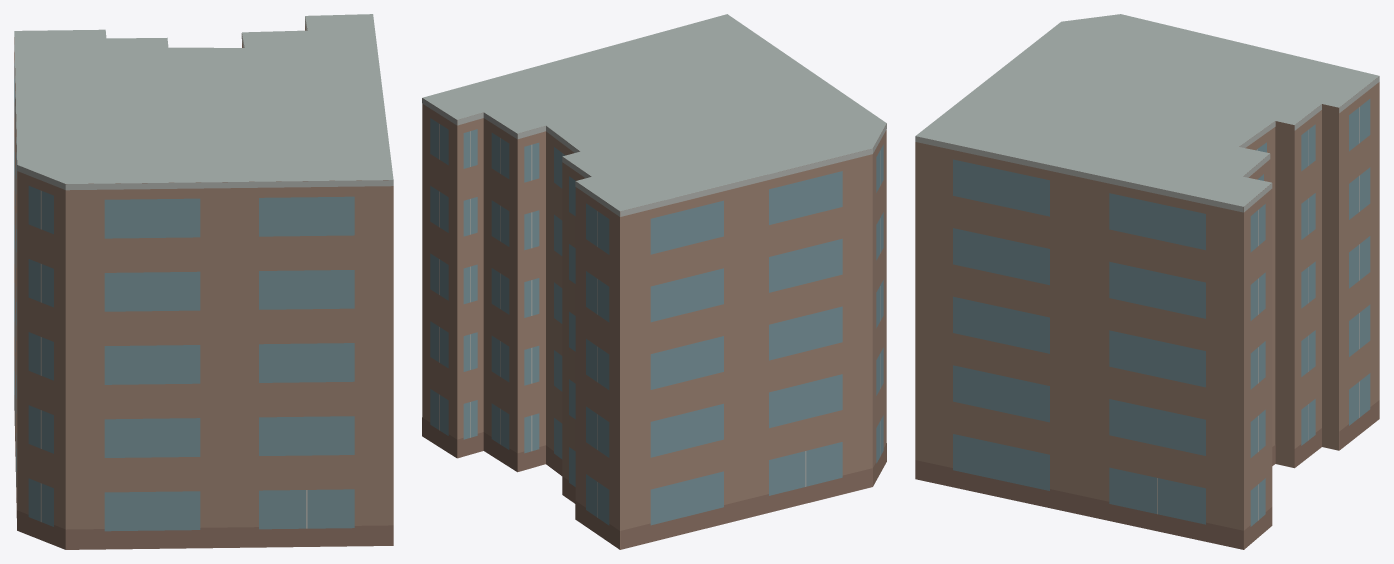
Rendered from survey-upis-32577572.glb.
3 renders of one model, left to right at view 1: azimuth 30°, elevation 25°; view 2: azimuth 150°, elevation 25°; view 3: azimuth 270°, elevation 25°, orthographic. The views are drawn at different scales.
Visible parts, largest first — view 1: survey-upis-32577572.tmp; view 2: survey-upis-32577572.tmp; view 3: survey-upis-32577572.tmp.
Boxes of the visible parts, left/top/right/bottom form: survey-upis-32577572.tmp: left=14, top=14, right=393, bottom=549; survey-upis-32577572.tmp: left=422, top=14, right=886, bottom=549; survey-upis-32577572.tmp: left=915, top=14, right=1379, bottom=549.
Bounding box in the file's own units: 17.55 × 14.55 × 17.86.
